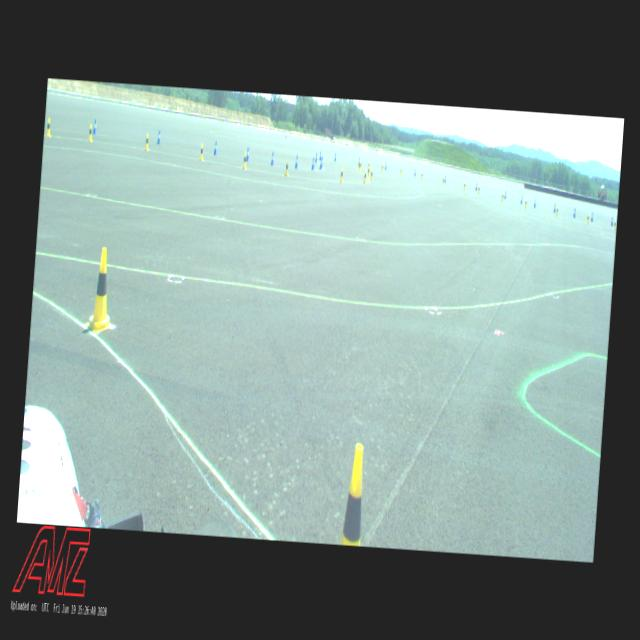blue_cone: (91, 119, 98, 134), (156, 130, 162, 144), (213, 140, 218, 156), (270, 150, 274, 166), (246, 146, 250, 162), (294, 154, 298, 168), (310, 156, 314, 170), (572, 208, 576, 218), (590, 211, 594, 221), (314, 152, 318, 162), (318, 150, 322, 160), (610, 216, 614, 225), (319, 158, 322, 170), (520, 194, 523, 205), (474, 182, 478, 190), (553, 203, 556, 212), (533, 198, 536, 207), (384, 161, 387, 170), (320, 155, 322, 167), (504, 190, 506, 199), (334, 152, 336, 161), (444, 174, 446, 183), (358, 156, 360, 164), (414, 168, 416, 175)
yellow_cone: (341, 442, 367, 546), (85, 246, 116, 332), (87, 124, 93, 142), (242, 151, 248, 169), (284, 160, 290, 177), (46, 116, 51, 136), (338, 166, 344, 182), (144, 132, 149, 150), (199, 142, 204, 160), (362, 170, 367, 183), (586, 213, 590, 223), (358, 160, 362, 170), (555, 205, 558, 216), (366, 166, 369, 177), (420, 170, 423, 180), (613, 220, 616, 230), (381, 162, 384, 172), (463, 180, 466, 190), (524, 198, 527, 208), (367, 160, 370, 170), (501, 192, 504, 201), (477, 184, 480, 193), (399, 166, 402, 175), (370, 168, 372, 180), (358, 162, 360, 172), (442, 176, 444, 184)
